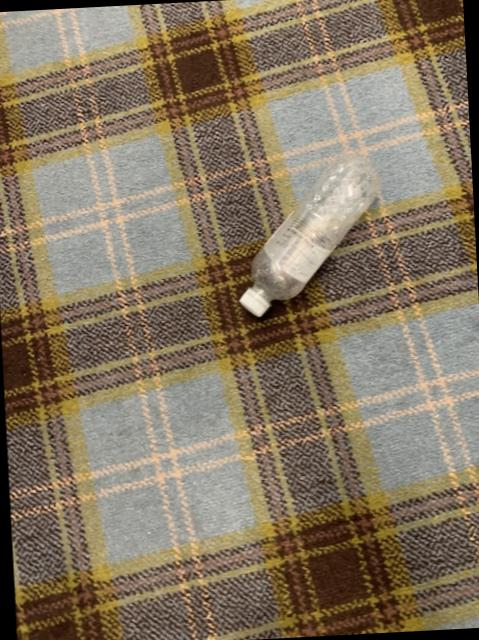plastic: (240, 154, 379, 315)
